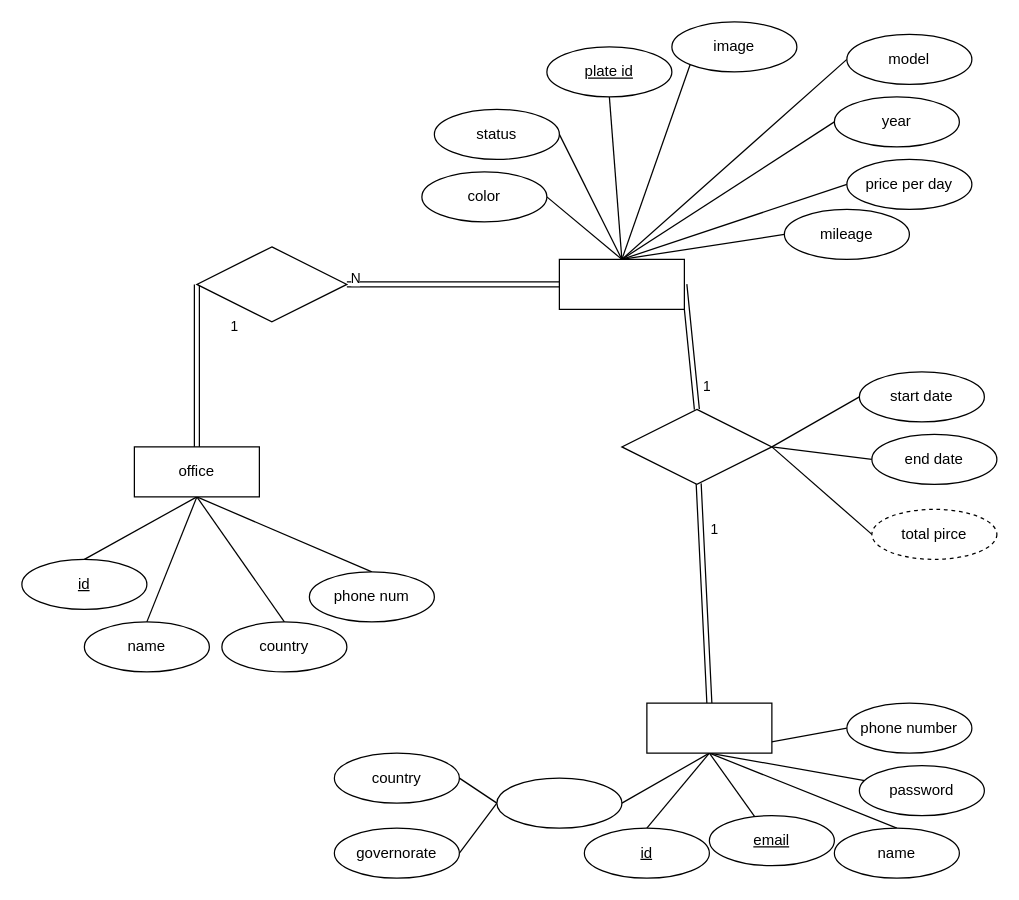
Image size: 1019x900. Some labels were removed from this diagram. The box of each missing label's shape, as (x1, y1, x2, y2) in pixels:
address: (496, 777, 622, 828)
car: (558, 258, 684, 309)
customer: (646, 702, 772, 753)
exist in: (196, 246, 347, 322)
Reserve: (621, 408, 772, 484)
